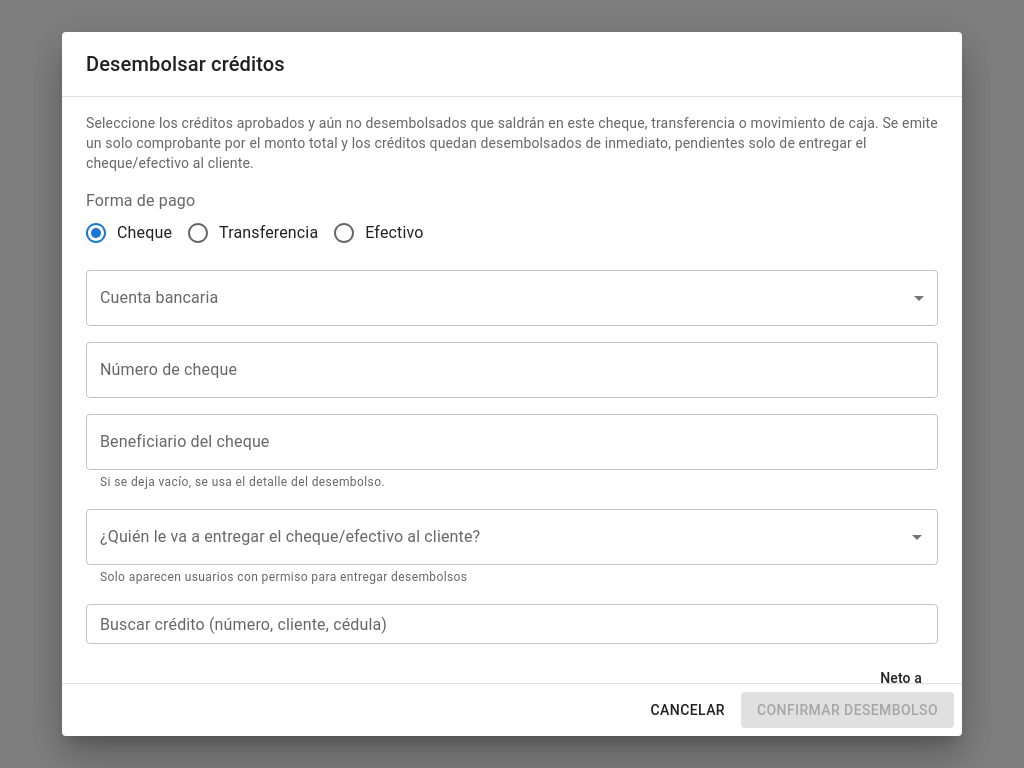
Scenario: Responsable de entrega › solo ofrece usuarios con permiso de entregar desembolsos
This screenshot has width=1024, height=768.
Press the mouse on the dropdown labelled "¿Quién le va a entregar el cheque/efectivo al cliente?": (497,537) 95,518 -> 899,556
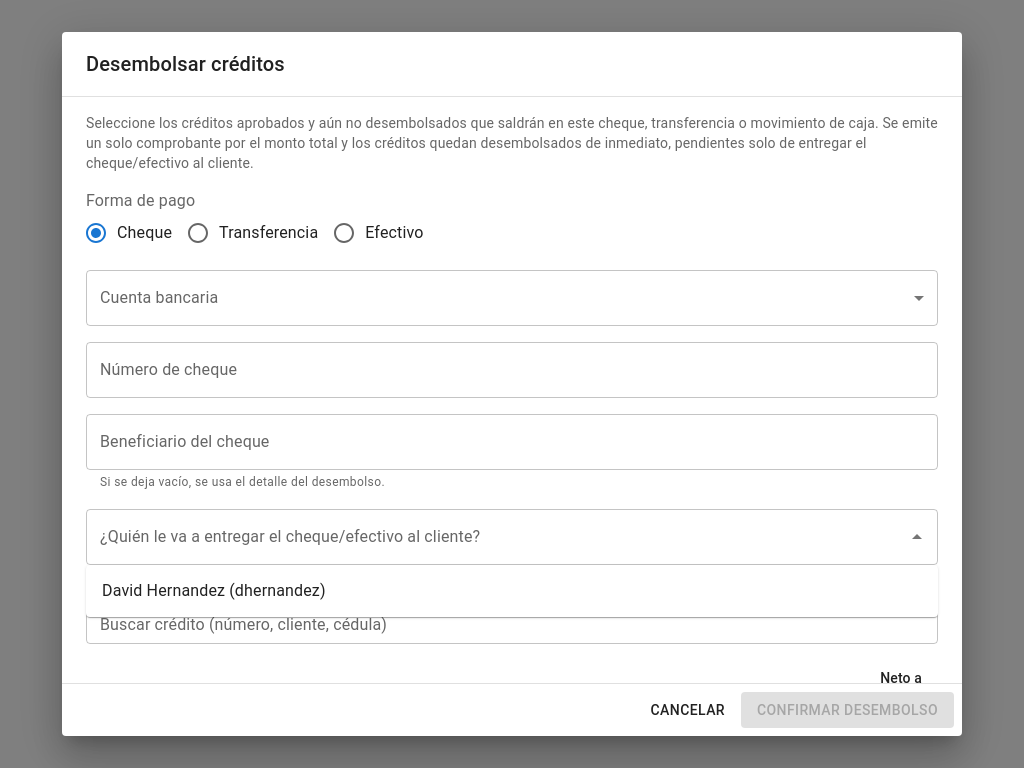
Result: the option "David Hernandez (dhernandez)" is shown at 102,581 -> 326,600
